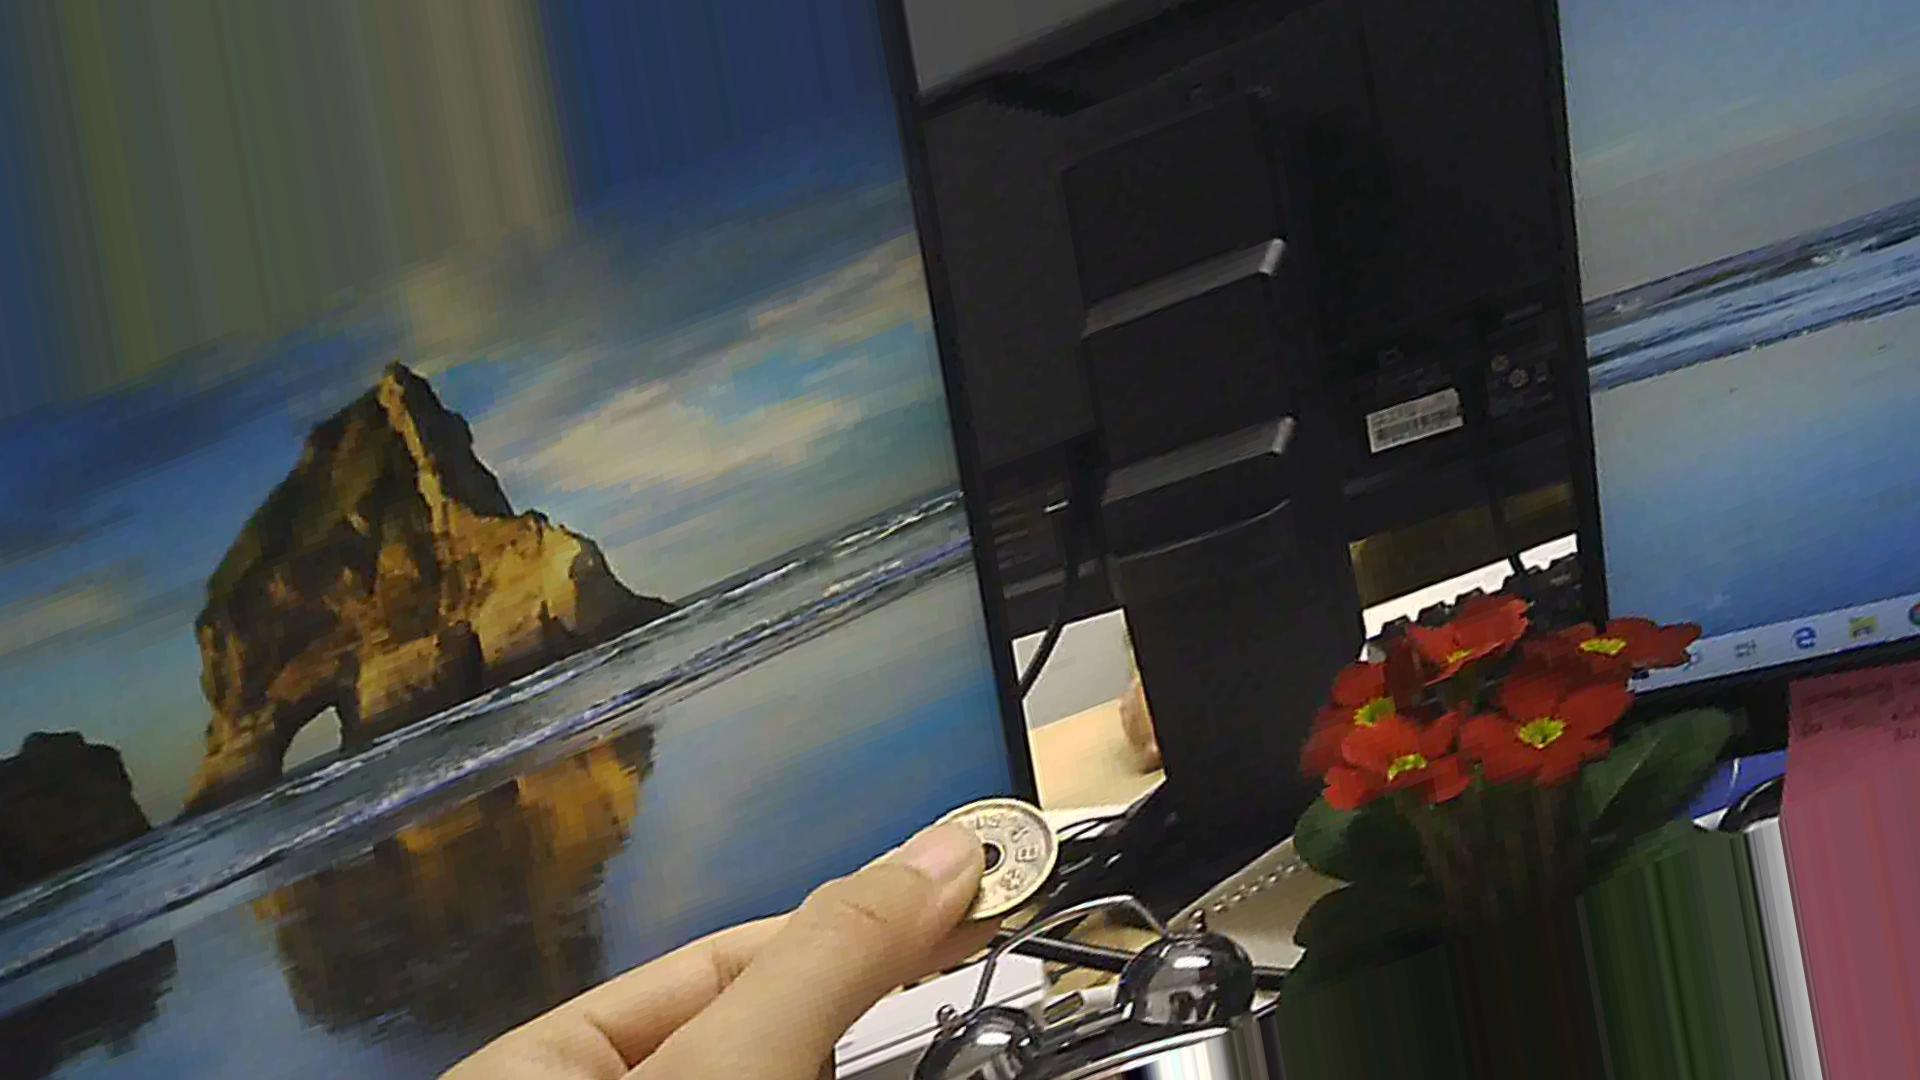5 Yen: (913, 800, 1051, 928)
